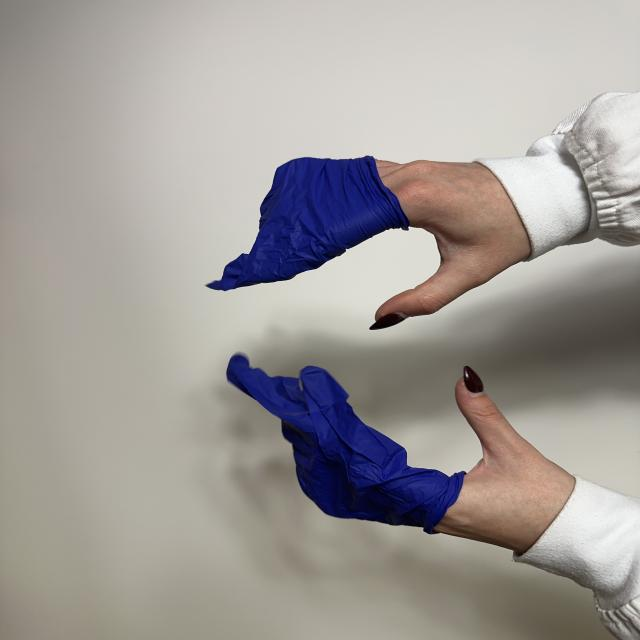glove_partial: (228, 356, 574, 553), (208, 157, 531, 330)
